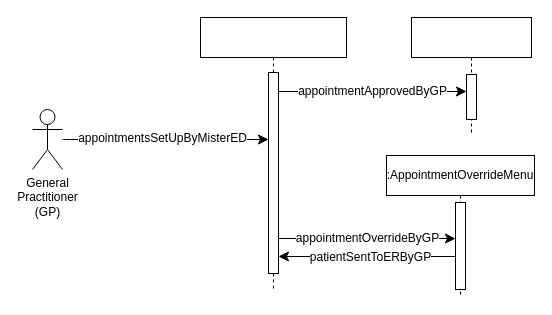
The diagram is 552 pixels wide and 315 high, and some of its shapes have lost their labels. Each missing label, with the box of its shape:
:AppointmentsOptionMenu: (200, 16, 346, 292)
:PatientAppoinment: (410, 16, 532, 132)
